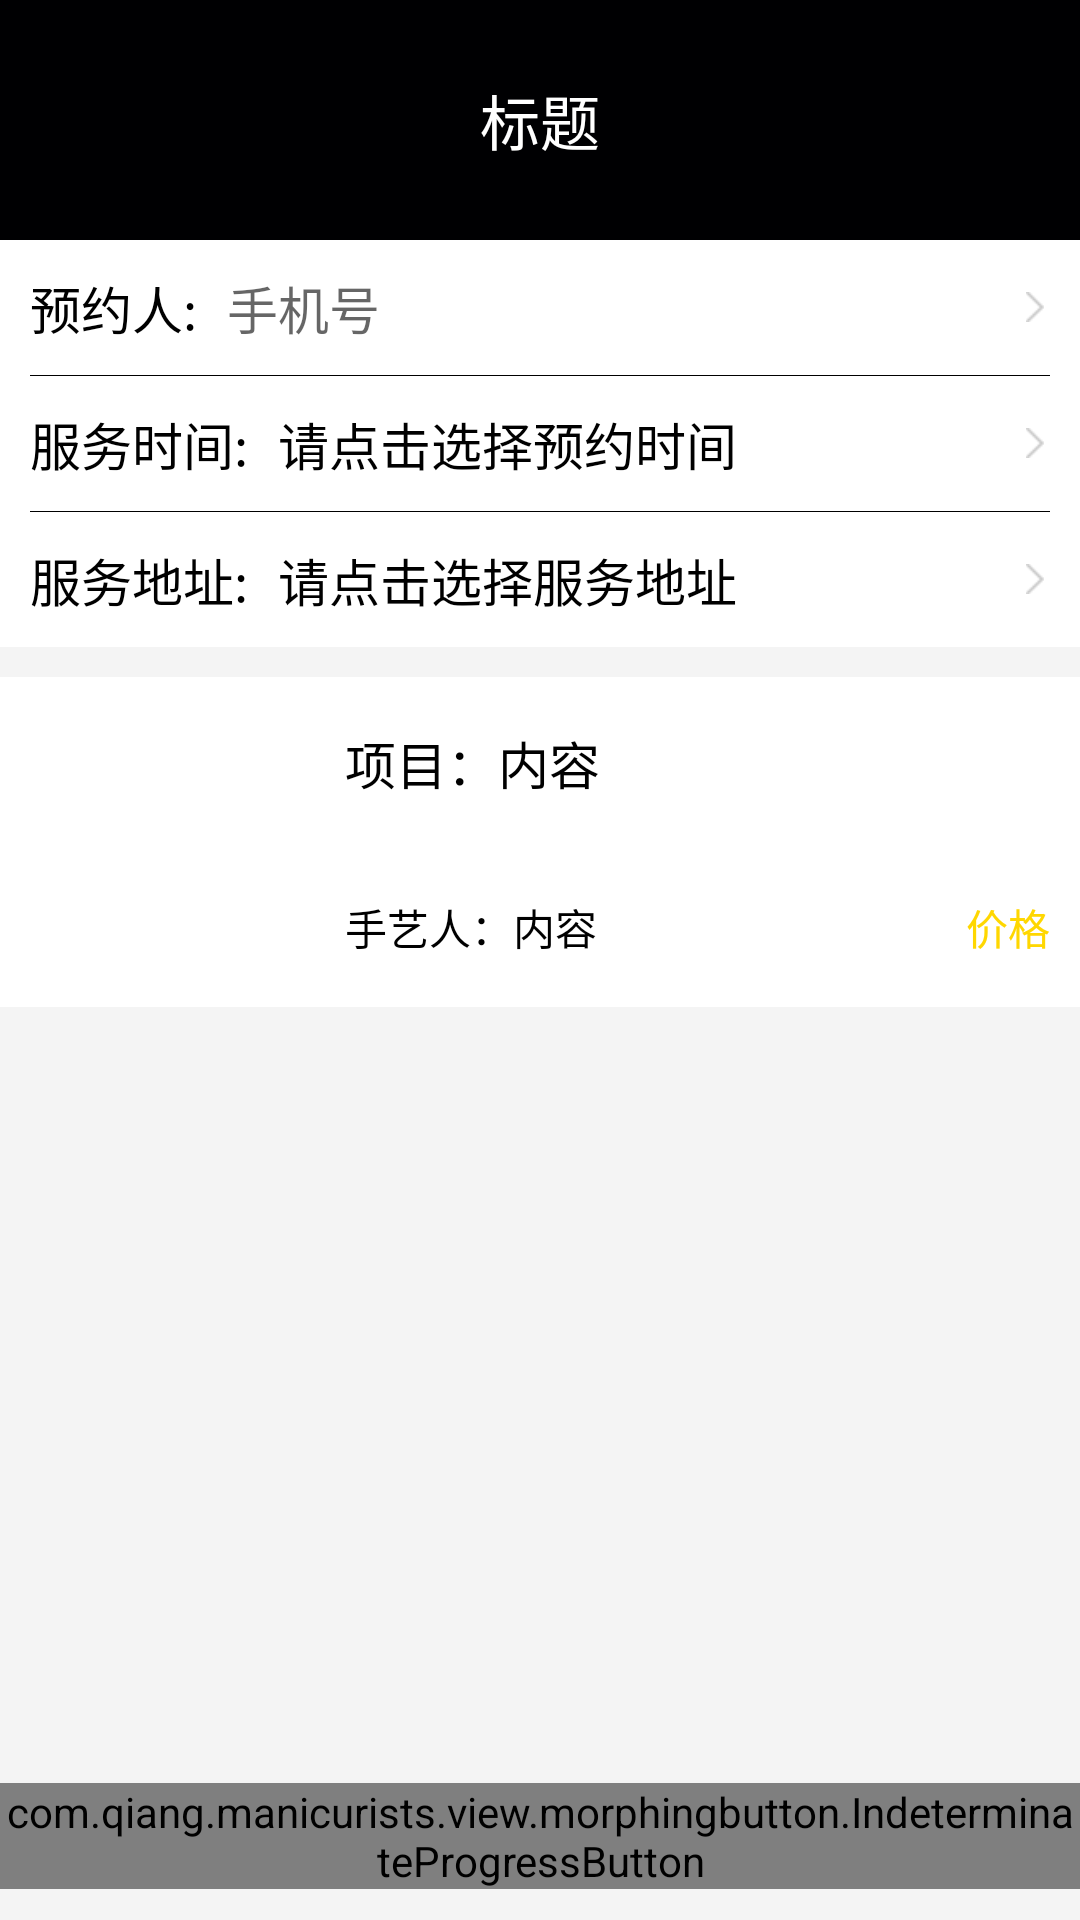

Where icons sit on this 1080px×1920px app screen, as [left=x1, top=y1, right=x2, bottom=y2]:
more open: [left=1026, top=292, right=1044, bottom=322], [left=1026, top=428, right=1044, bottom=458], [left=1026, top=564, right=1044, bottom=594]
